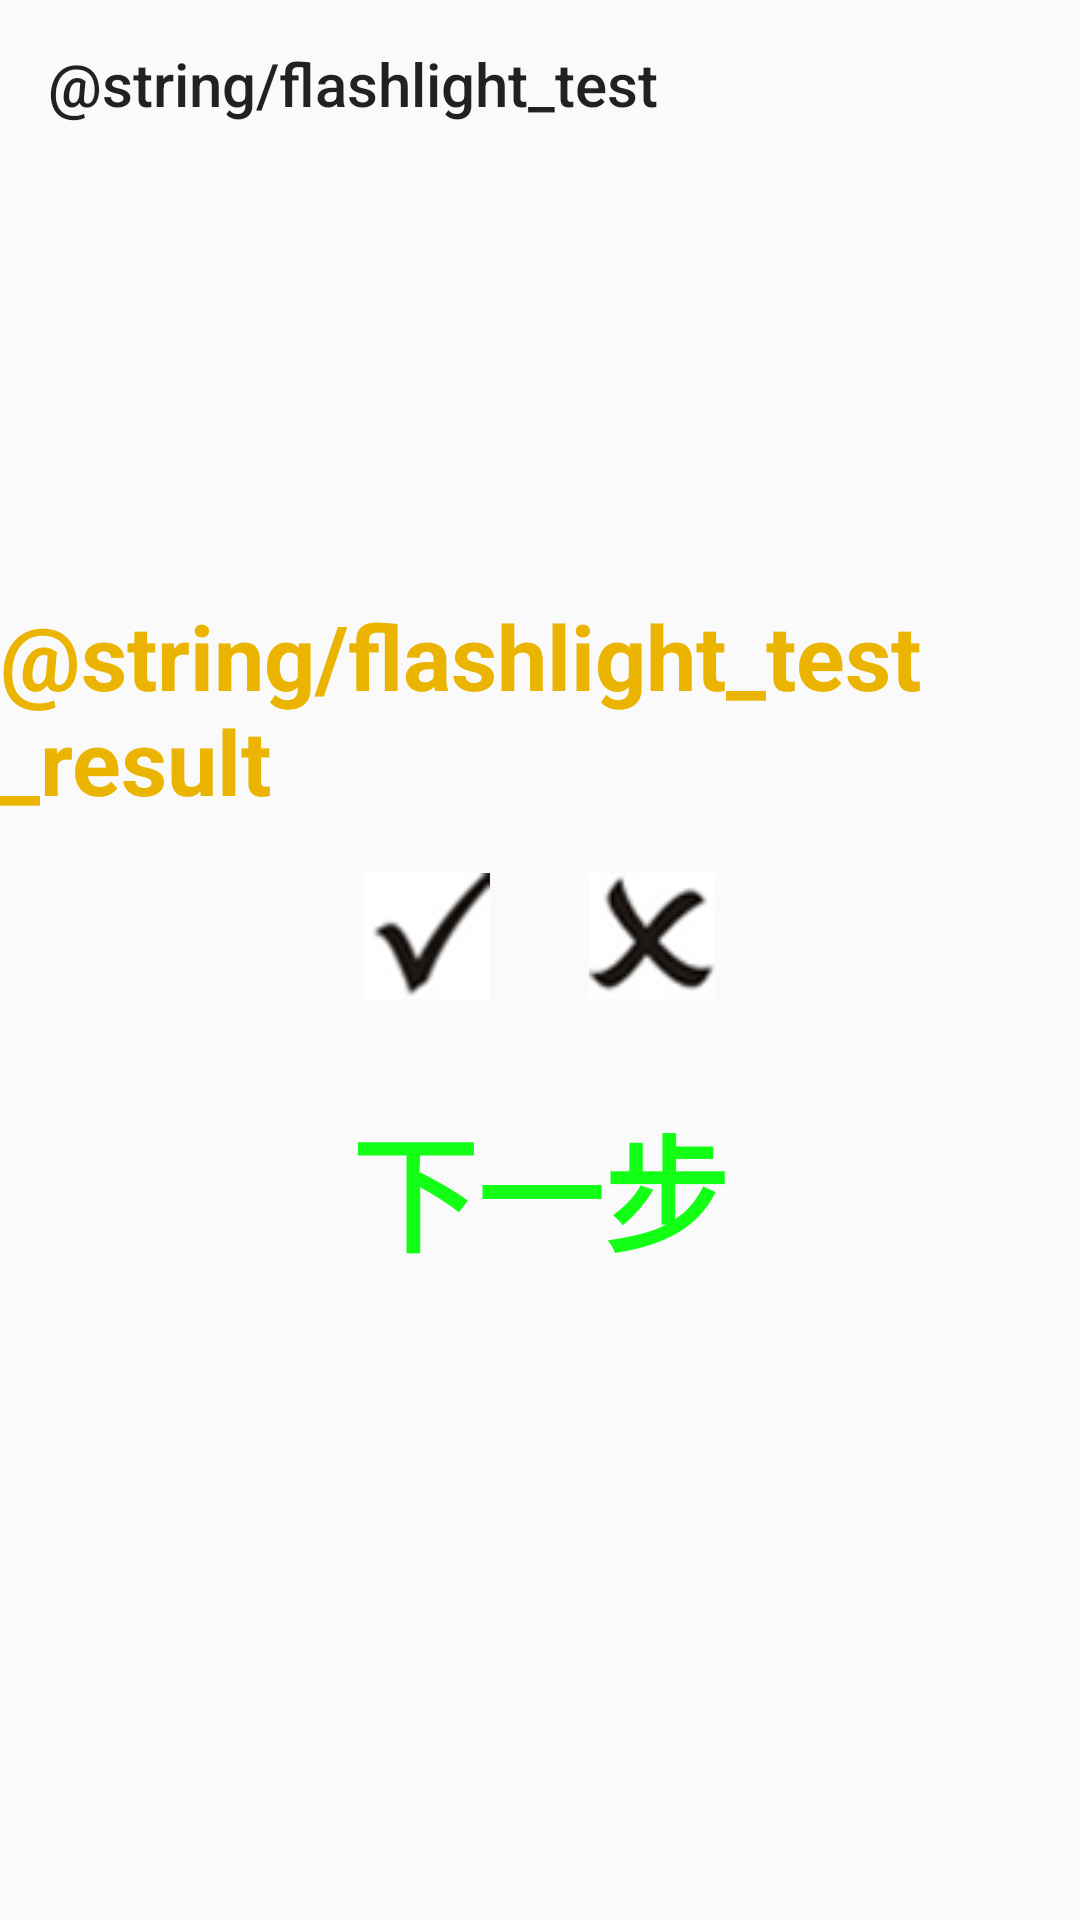

Named icons in this screenshot (1080w x 1920h) and their bounding boxes, {"left": x1, "top": y1, "right": x2, "bottom": y2}:
check cross: {"left": 589, "top": 877, "right": 713, "bottom": 991}
check ok: {"left": 374, "top": 873, "right": 490, "bottom": 994}
